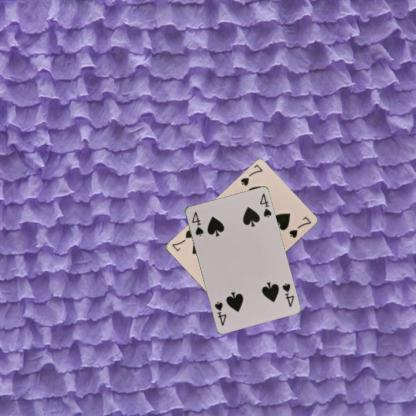4s: (279, 280, 295, 308), (189, 208, 204, 237)
7s: (238, 162, 264, 187)
